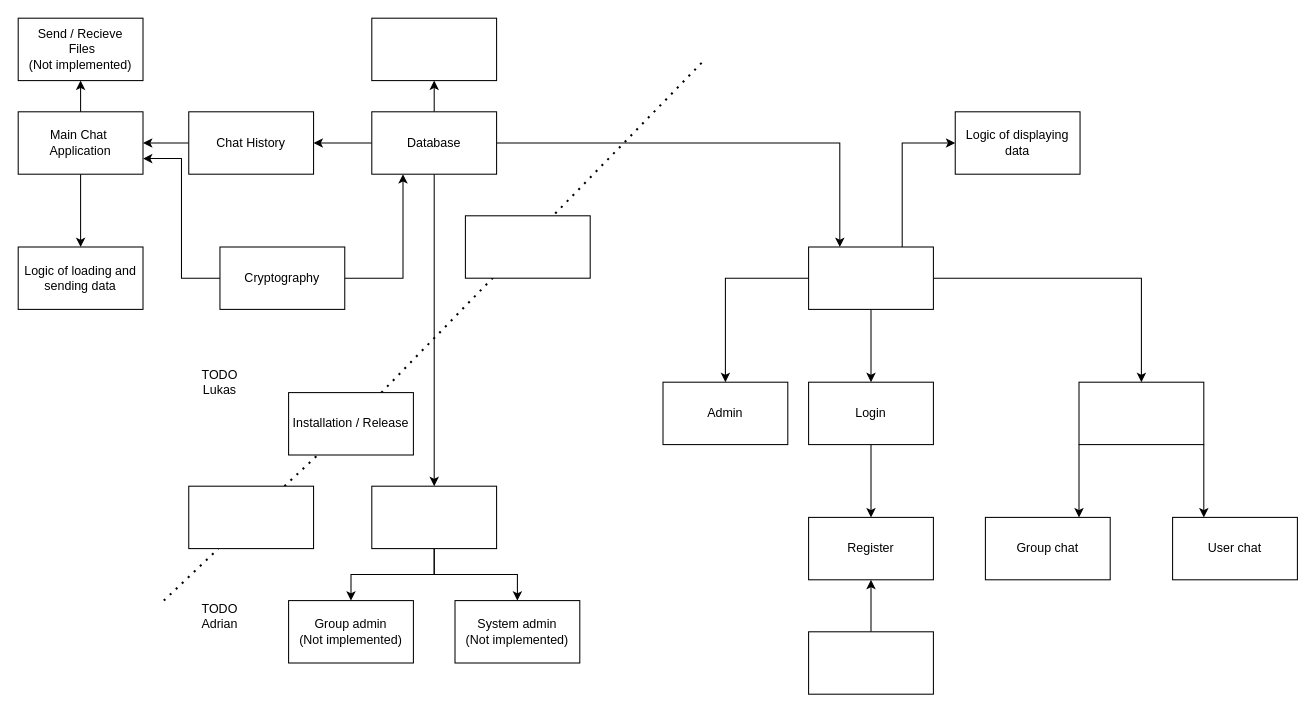
The diagram is 1316 pixels wide and 712 high, and some of its shapes have lost their labels. Each missing label, with the box of its shape:
Chat: (1078, 381, 1204, 445)
E Mail Interface (Not implemented): (808, 631, 933, 694)
GUI: (808, 246, 933, 309)
Set up and server interaction: (371, 17, 497, 81)
Standard User: (371, 485, 497, 549)
Test and coverage: (188, 485, 314, 549)
Usability / Features: (464, 215, 590, 278)
